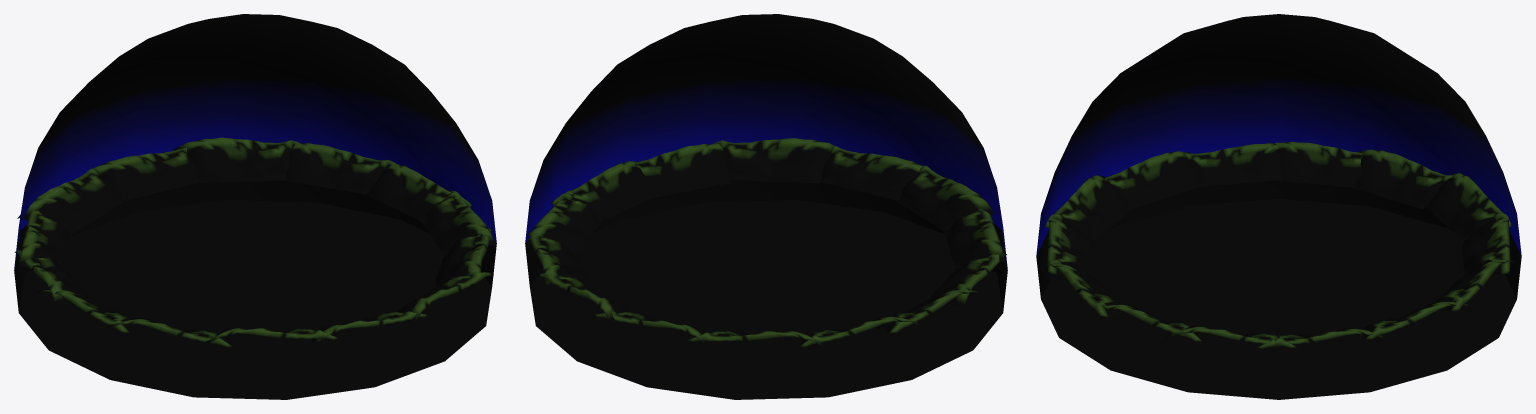
File: SKY_DOOM_KI.glb
3 views of the same model, side by side, from view 1: azimuth 30°, elevation 25°; view 2: azimuth 150°, elevation 25°; view 3: azimuth 270°, elevation 25° (orthographic).
Parts seen in each view (by area): view 1: Sky; view 2: Sky; view 3: Sky.
Part boxes in pixels (bbox=[...]): Sky: bbox=[14, 14, 496, 399]; Sky: bbox=[525, 14, 1007, 399]; Sky: bbox=[1036, 14, 1521, 399].
Bounding box in the file's own units: 1380 × 825 × 1380.
Materials: 2 (1 with a texture image).
